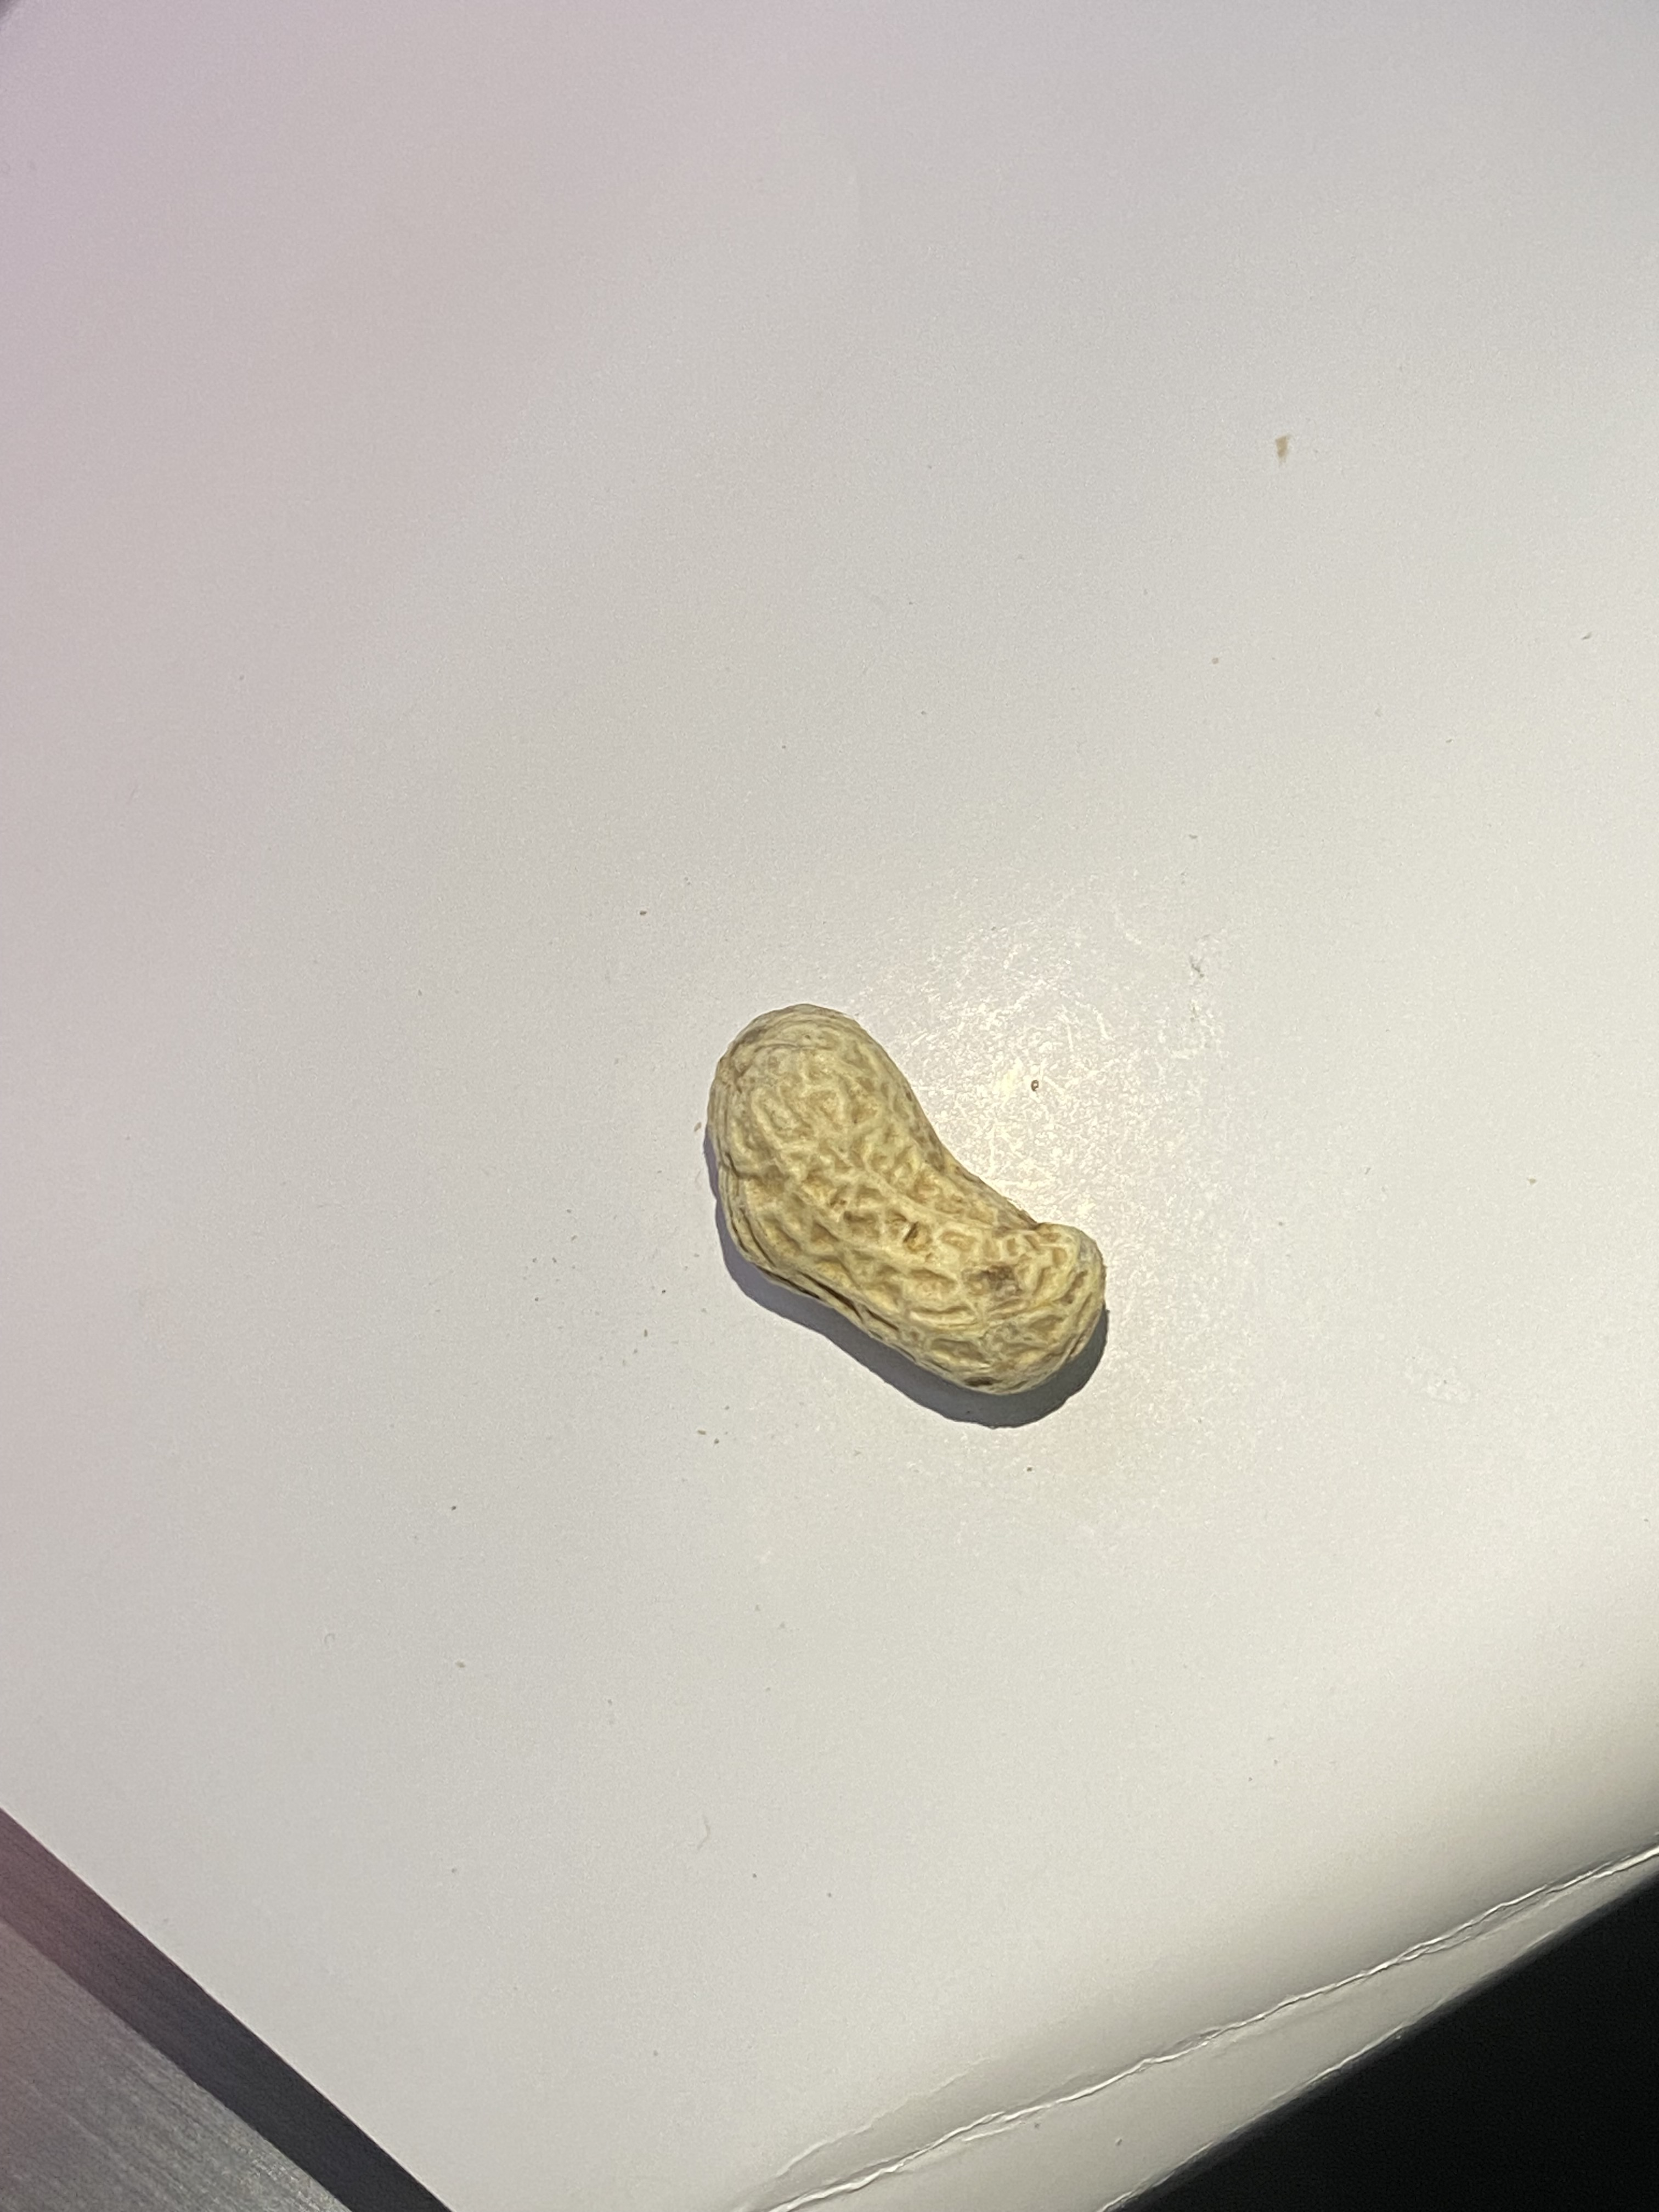kacang1: (697, 1003, 1143, 1414)
